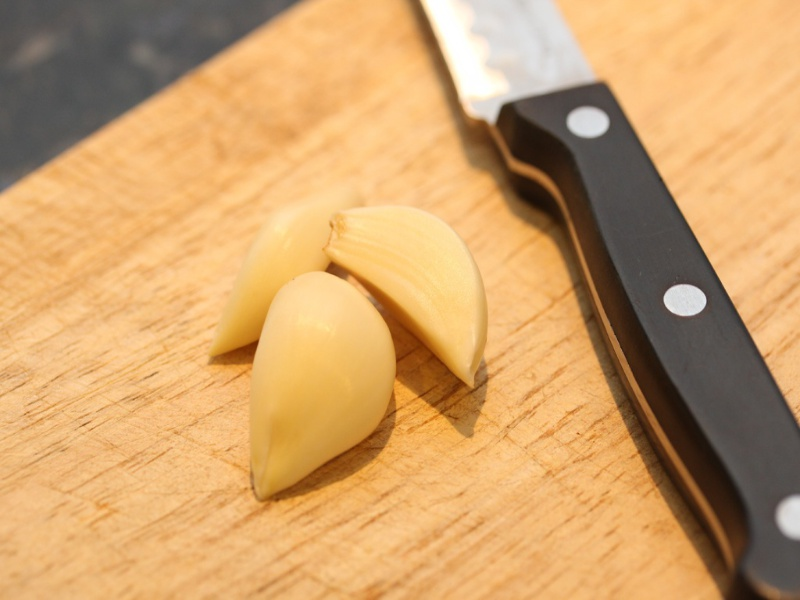knife: (420, 1, 795, 596)
